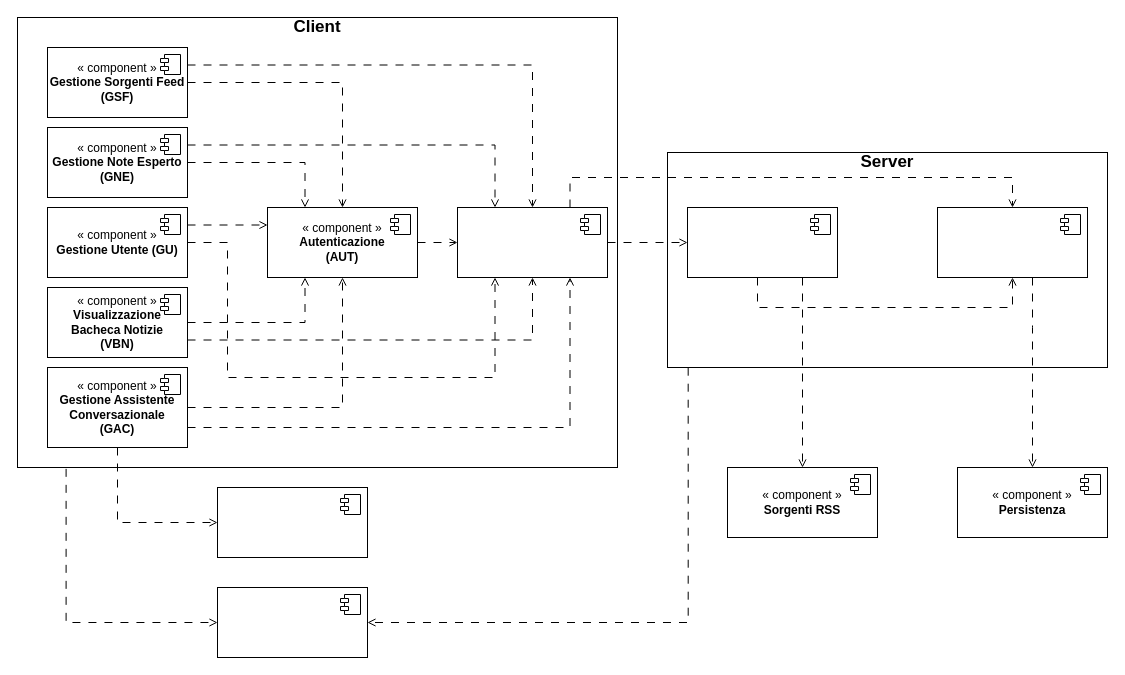
Some shapes in this 1125 by 675 pixel diagram are drawn without their labels. The shapes that lost their labels are listed below. From the top down, each one's centre as x and y in pixels, then its label:
the point at 532,242: « component » Persistenza (PER)
the point at 762,242: « component » Sincronizzazione Feed (SYNC)
the point at 1012,242: « component » Servizio remoto (SRV)
the point at 292,522: « component » Motore LLM
the point at 292,622: « component » Modello condiviso (COM)
